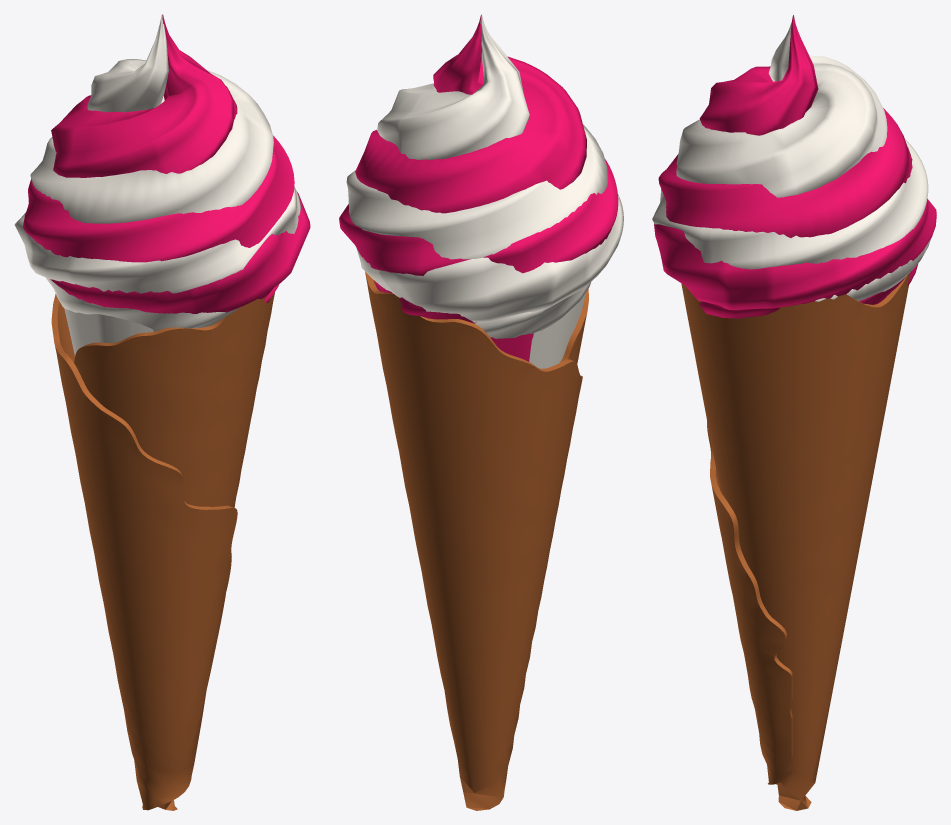
Rendered from Parent_Run_Ice_Cream_02.fbx.
The picture shows the model from 3 angles, left to right: view 1: azimuth 30°, elevation 25°; view 2: azimuth 150°, elevation 25°; view 3: azimuth 270°, elevation 25°; orthographic projection.
Parts seen in each view (by area): view 1: Ice_Cream; view 2: Ice_Cream; view 3: Ice_Cream.
Boxes of the visible parts, x1,y1,x2,y2 form: Ice_Cream: (14,14,310,810); Ice_Cream: (339,14,623,810); Ice_Cream: (652,15,936,810).
Size of the model in its own units: 146 by 444 by 145.
